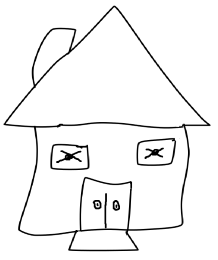big_house: (0, 0, 217, 259)
chimney: (25, 22, 87, 92)
closed_window: (48, 138, 99, 172), (131, 133, 177, 169)
door: (71, 174, 137, 236)
roof: (1, 5, 213, 133)
wall: (15, 114, 195, 241)
